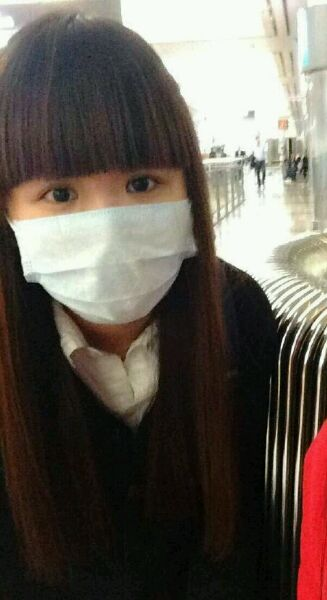face_mask: (16, 120, 184, 321)
